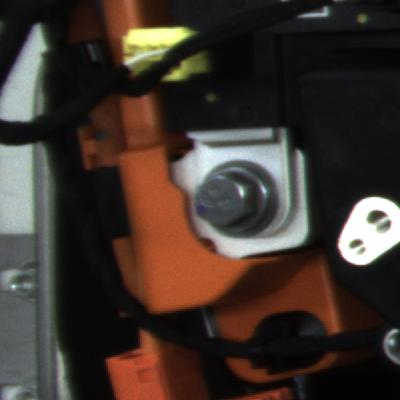nut_b: (183, 153, 293, 240)
